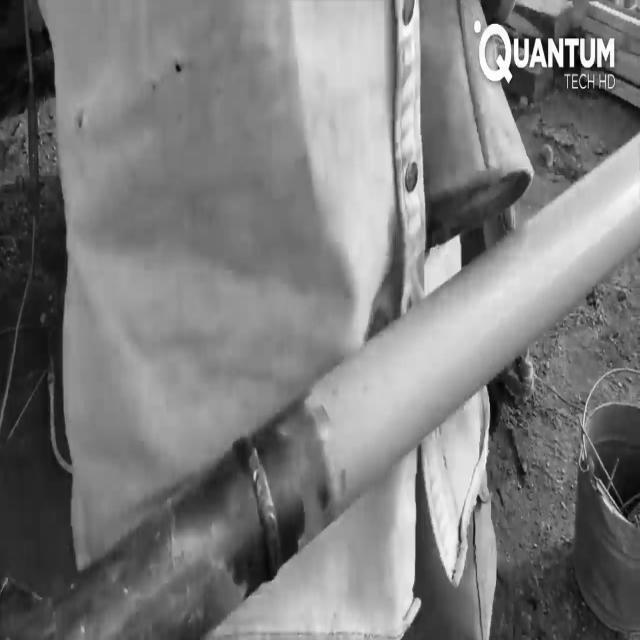Good Weld: (245, 446, 279, 550)
